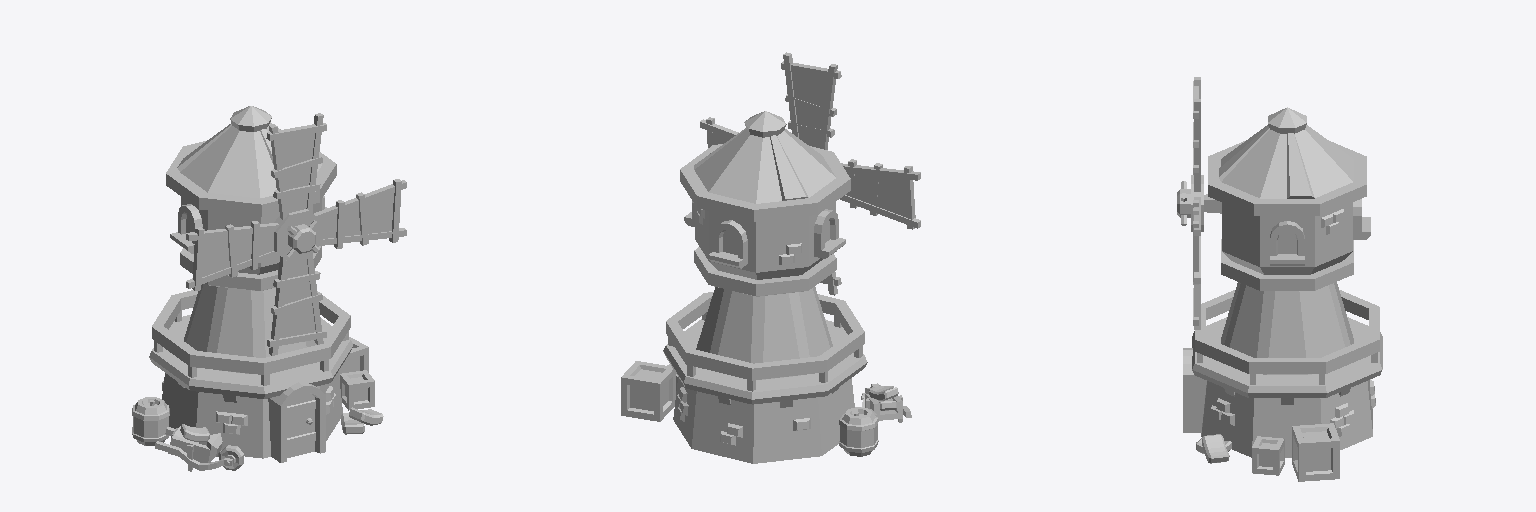
3 views of the same model, side by side, from view 1: azimuth 30°, elevation 25°; view 2: azimuth 150°, elevation 25°; view 3: azimuth 270°, elevation 25° (orthographic).
Visible parts, largest first — view 1: building_windmill_blue, building_windmill_top_fan_blue, building_windmill_top_blue; view 2: building_windmill_blue, building_windmill_top_blue, building_windmill_top_fan_blue; view 3: building_windmill_blue, building_windmill_top_blue, building_windmill_top_fan_blue.
Part boxes in pixels (bbox=[...]): building_windmill_blue: bbox=[132, 284, 383, 471]; building_windmill_top_fan_blue: bbox=[186, 113, 406, 355]; building_windmill_top_blue: bbox=[166, 106, 336, 290]; building_windmill_blue: bbox=[621, 287, 911, 463]; building_windmill_top_blue: bbox=[680, 111, 850, 296]; building_windmill_top_fan_blue: bbox=[700, 52, 920, 295]; building_windmill_blue: bbox=[1183, 282, 1382, 481]; building_windmill_top_blue: bbox=[1204, 107, 1370, 290]; building_windmill_top_fan_blue: bbox=[1177, 77, 1203, 329].
Size of the model in its own units: 1.13 by 1.46 by 0.8165.